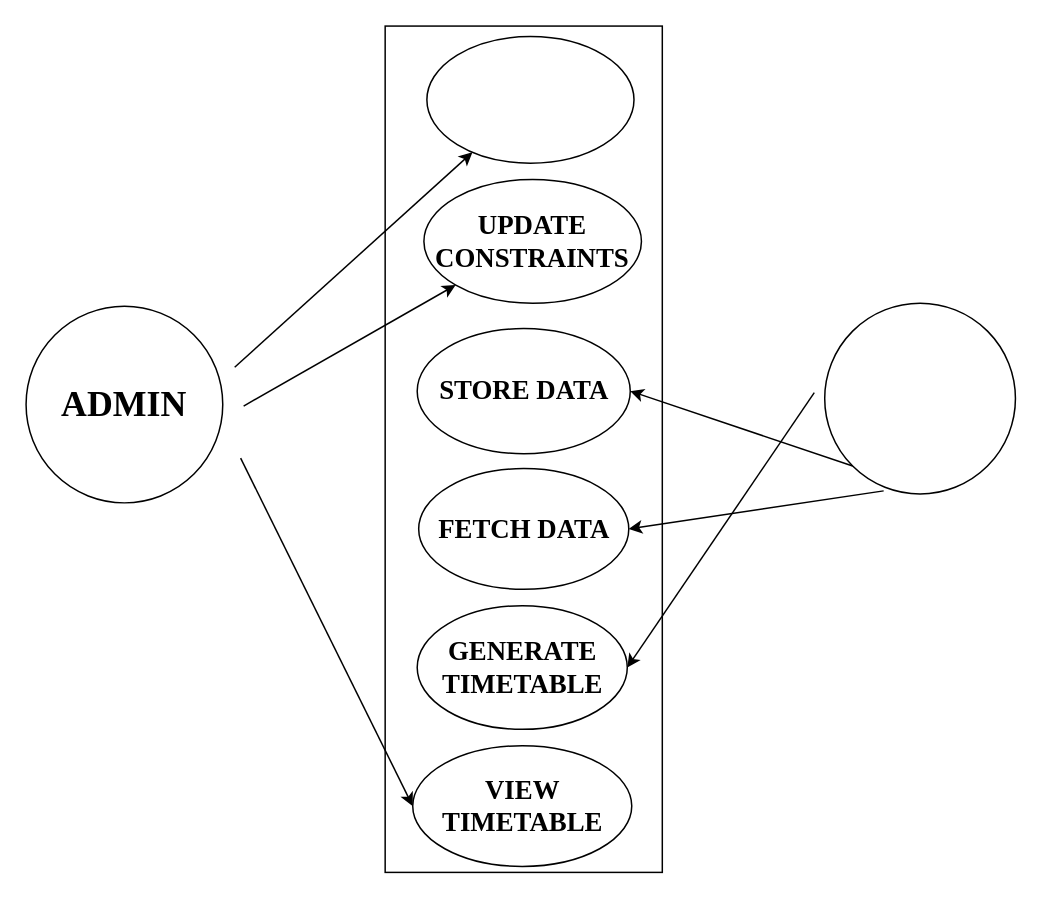
Some shapes in this 1042 by 898 pixel diagram are drawn without their labels. The centre of each missing label's shape, as x and y in pixels:
"INPUT CONSTRAINTS" goes at (529,99).
"SYSTEM" goes at (919,398).
